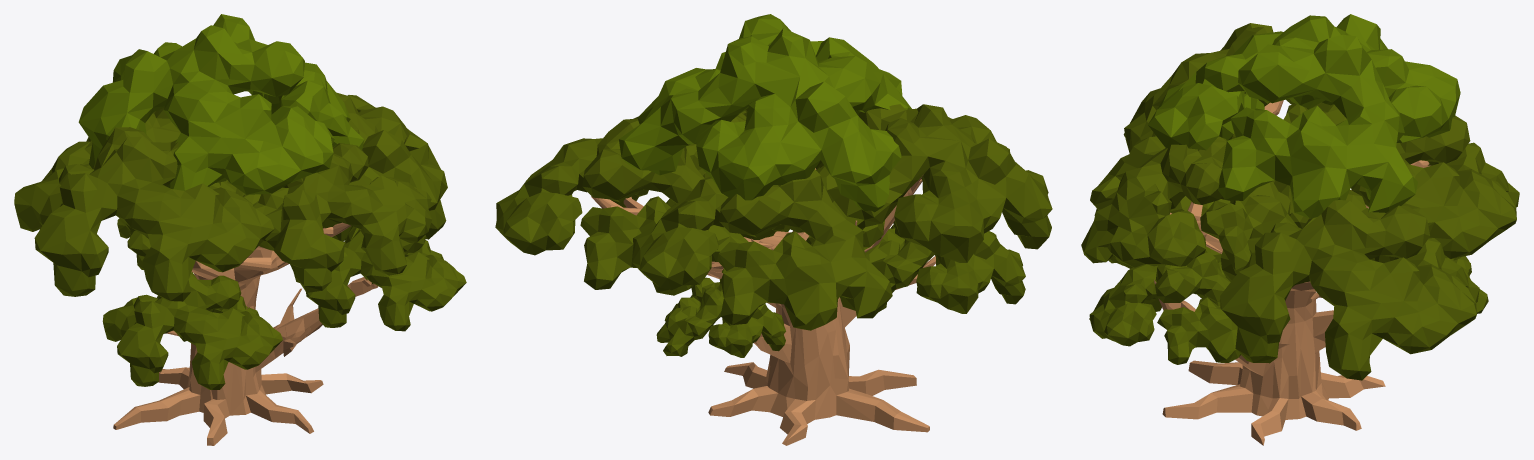
The model's file is Weeping Fig4.fbx.
3 renders of one model, left to right at view 1: azimuth 30°, elevation 25°; view 2: azimuth 150°, elevation 25°; view 3: azimuth 270°, elevation 25°, orthographic. The views are drawn at different scales.
Visible parts, largest first — view 1: Weeping Fig4; view 2: Weeping Fig4; view 3: Weeping Fig4.
Boxes of the visible parts, x1=… form: Weeping Fig4: x1=14, y1=14, x2=466, y2=445; Weeping Fig4: x1=495, y1=14, x2=1052, y2=445; Weeping Fig4: x1=1081, y1=14, x2=1519, y2=445.
Bounding box in the file's own units: 1972 × 1496 × 1539.
Materials: 1 (1 with a texture image).
